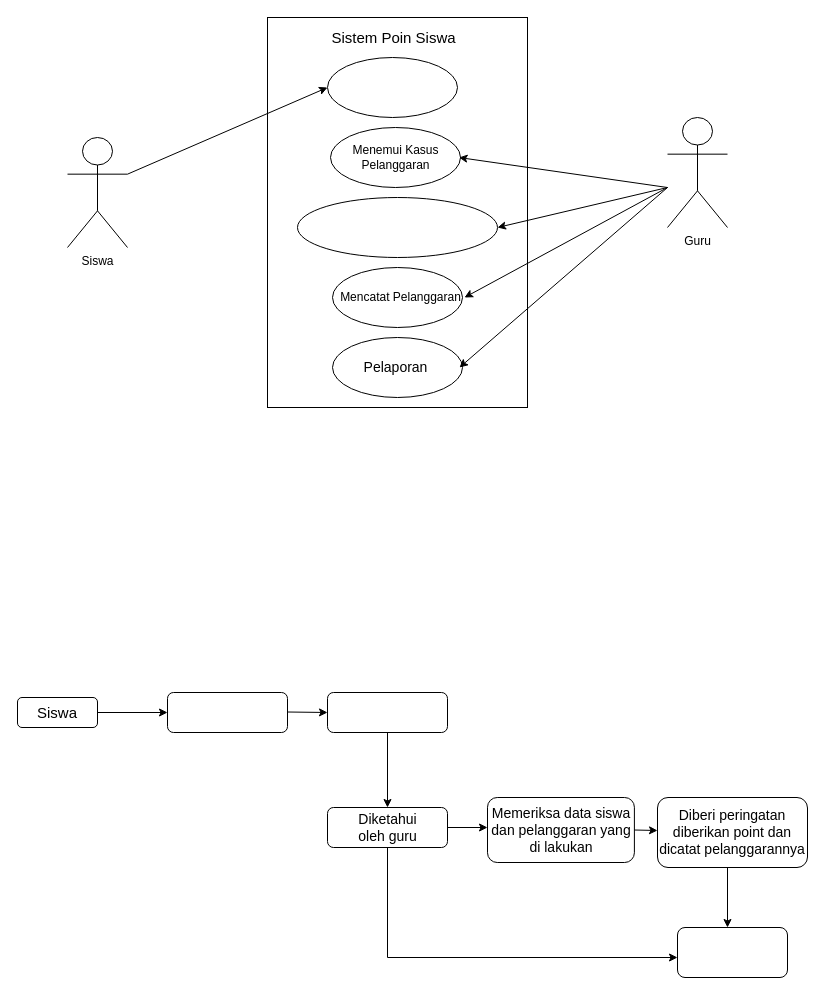
This 830x995 diagram has some shape labels left out. Here are the shapes that lost their labels. From the top down, the centre of each, then its label:
At point 392,87: "Melakukan Kasus Pelanggaran".
At point 397,227: "Memeriksa data siswa dan pelanggaran yang dilakukan".
At point 227,712: "Melakukan Keributan".
At point 387,712: "Melakukan Pelanggaran".
At point 732,952: "Dilaporkan ke Wali Kelas".
